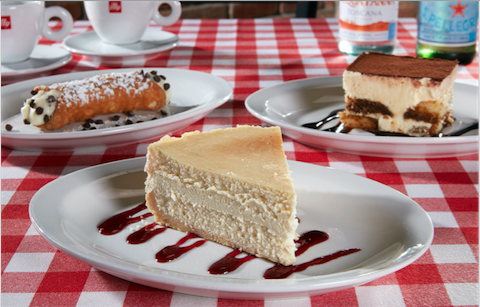soup: (143, 125, 307, 265), (340, 53, 458, 137)
